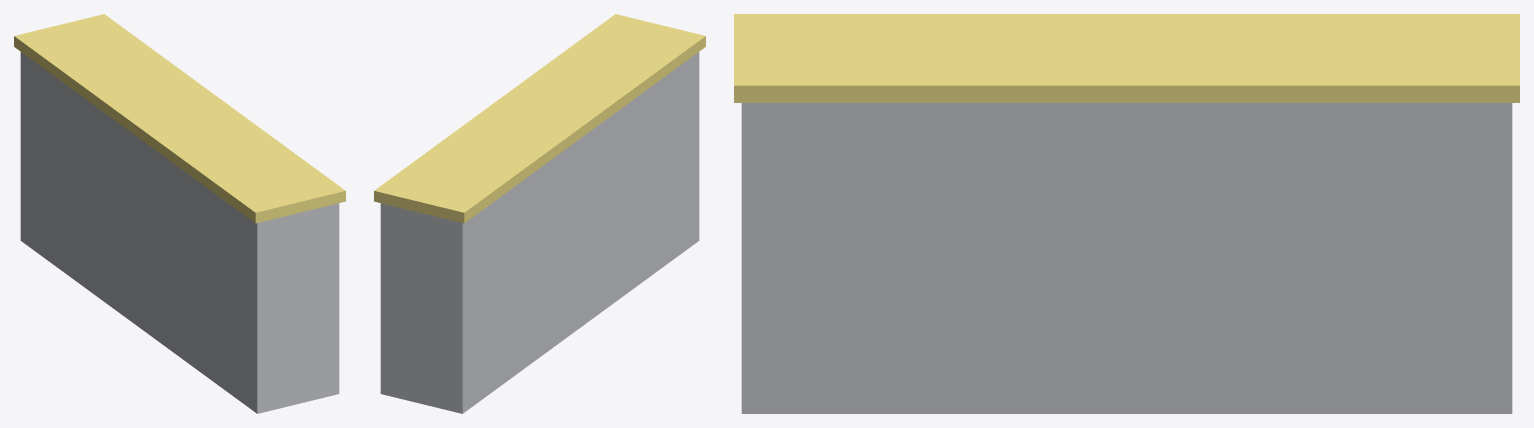
Rendered from Toy_VaultRail_090.fbx.
The picture shows the model from 3 angles, left to right: view 1: azimuth 30°, elevation 25°; view 2: azimuth 150°, elevation 25°; view 3: azimuth 270°, elevation 25°; orthographic projection. The views are drawn at different scales.
Parts seen in each view (by area): view 1: Toy_VaultRail_090; view 2: Toy_VaultRail_090; view 3: Toy_VaultRail_090.
Part boxes in pixels (box(x1,y1,x2,y2)): Toy_VaultRail_090: box(14, 14, 345, 413); Toy_VaultRail_090: box(374, 14, 705, 413); Toy_VaultRail_090: box(734, 14, 1519, 413).
Bounding box in the file's own units: 0.44 × 0.95 × 2.04.
